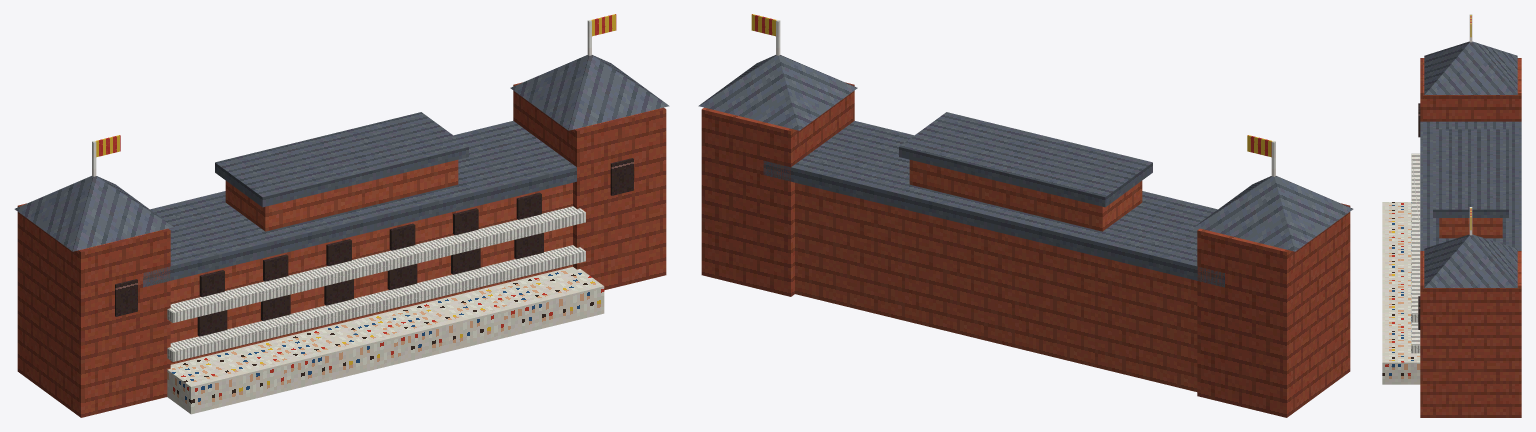
The model's file is lords.glb.
3 renders of one model, left to right at view 1: azimuth 30°, elevation 25°; view 2: azimuth 150°, elevation 25°; view 3: azimuth 270°, elevation 25°, orthographic. The views are drawn at different scales.
Visible parts, largest first — view 1: lords_pavilion; view 2: lords_pavilion; view 3: lords_pavilion.
Part boxes in pixels (left/top/right/bottom): lords_pavilion: left=14, top=14, right=669, bottom=417; lords_pavilion: left=698, top=14, right=1353, bottom=417; lords_pavilion: left=1382, top=14, right=1521, bottom=417.
Bounding box in the file's own units: 43.35 × 16.8 × 11.
8 materials, 8 textured.
